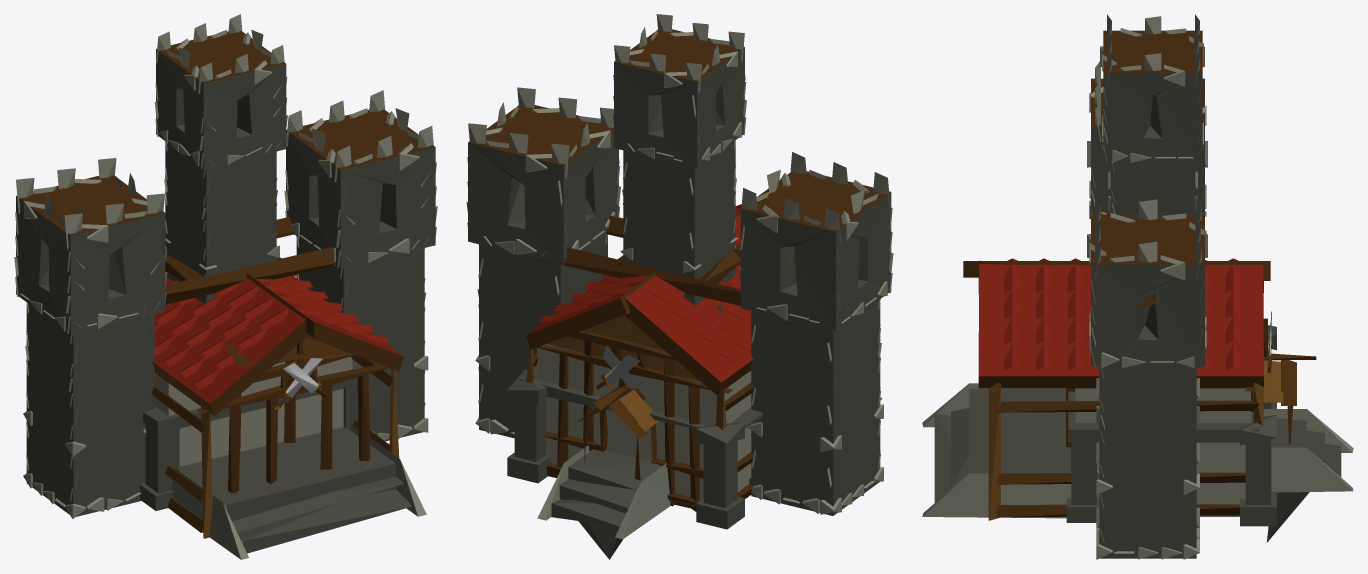
The model's file is Barracks_SecondAge_Level3.fbx.
3 renders of one model, left to right at view 1: azimuth 30°, elevation 25°; view 2: azimuth 150°, elevation 25°; view 3: azimuth 270°, elevation 25°, orthographic. The views are drawn at different scales.
Visible parts, largest first — view 1: High_Barracks_SecondAge_Level3, Low_Barracks_SecondAge_Level3; view 2: High_Barracks_SecondAge_Level3, Low_Barracks_SecondAge_Level3; view 3: High_Barracks_SecondAge_Level3, Low_Barracks_SecondAge_Level3.
Part boxes in pixels (box(x1,y1,x2,y2)): High_Barracks_SecondAge_Level3: box(14, 14, 437, 559); Low_Barracks_SecondAge_Level3: box(220, 335, 385, 402); High_Barracks_SecondAge_Level3: box(466, 14, 893, 539); Low_Barracks_SecondAge_Level3: box(519, 115, 860, 559); High_Barracks_SecondAge_Level3: box(922, 14, 1353, 559); Low_Barracks_SecondAge_Level3: box(979, 260, 1324, 542).
Bounding box in the file's own units: 171 × 212 × 166.
